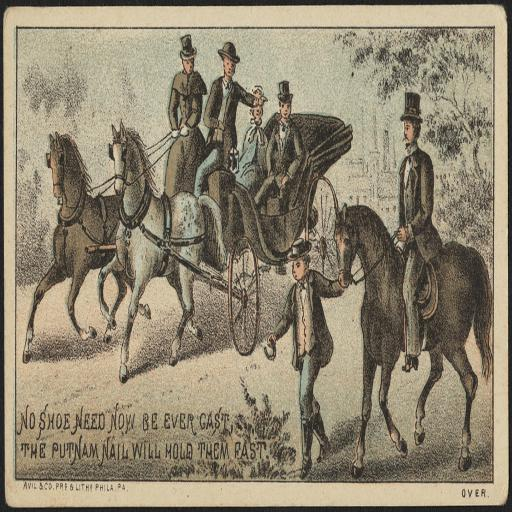horse: (332, 204, 494, 482), (99, 118, 229, 386), (20, 128, 152, 366)
